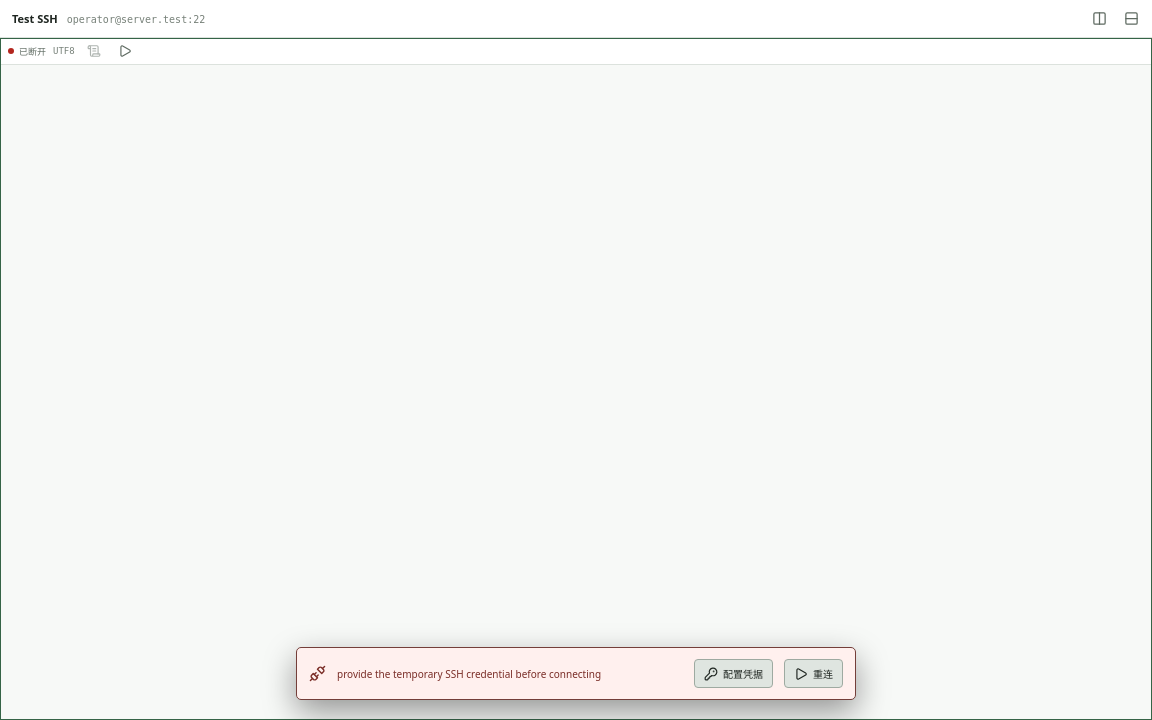
Test: M2 terminal workspace › passes quick-connect passwords once without persisting them
Click the button "配置凭据".
click(734, 674)  # box [694,659,773,688]
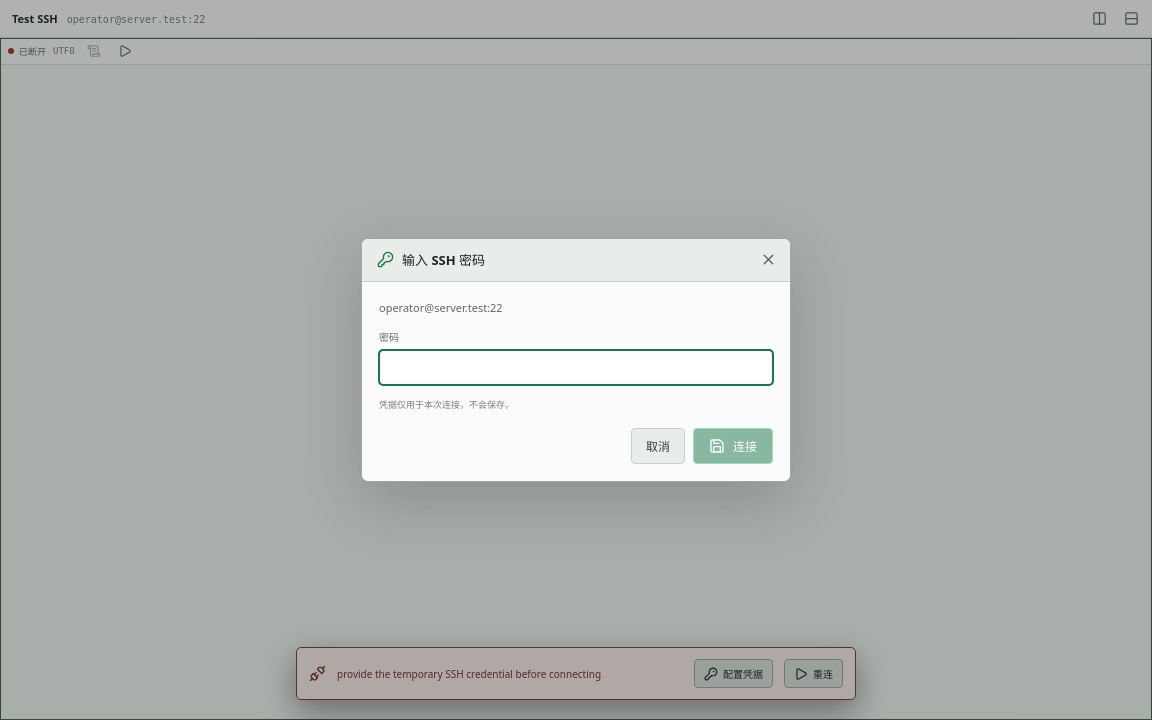
Now the dialog "输入 SSH 密码" is shown, box [361,238,791,482]
Type "one-time-password" into the password field labelled "密码".
click(576, 368); type("one-time-password")  # box [379,350,773,385]
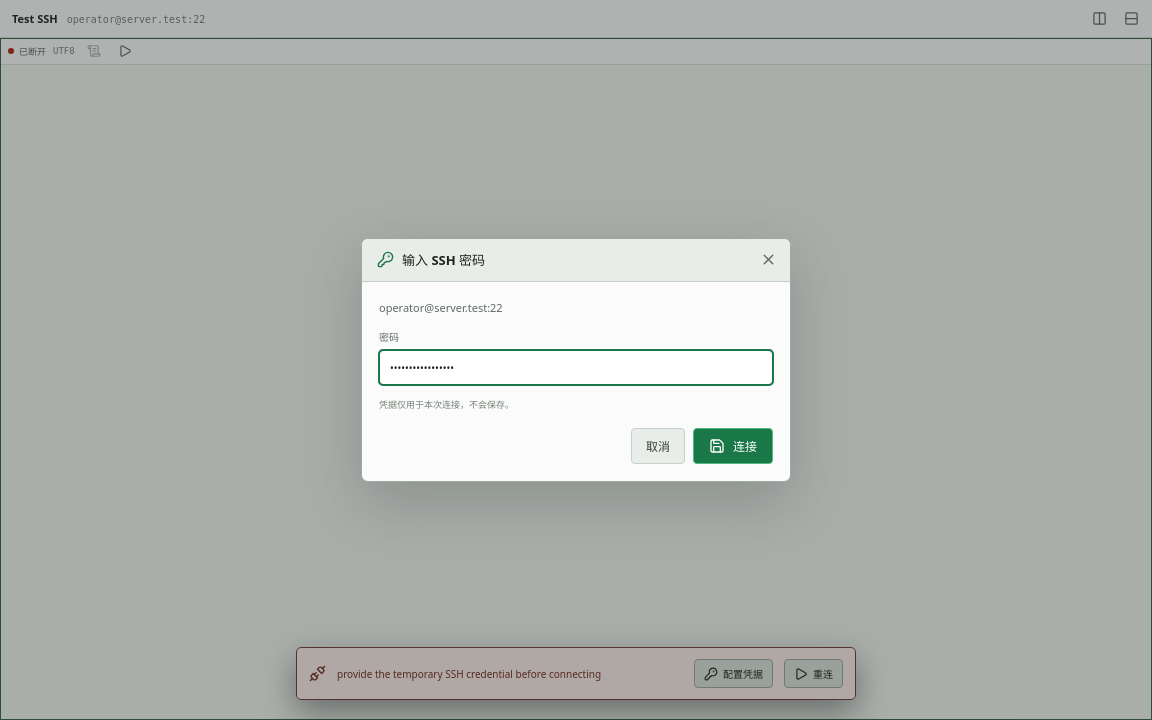
Click the button "连接".
click(733, 446)  # box [693,428,773,464]
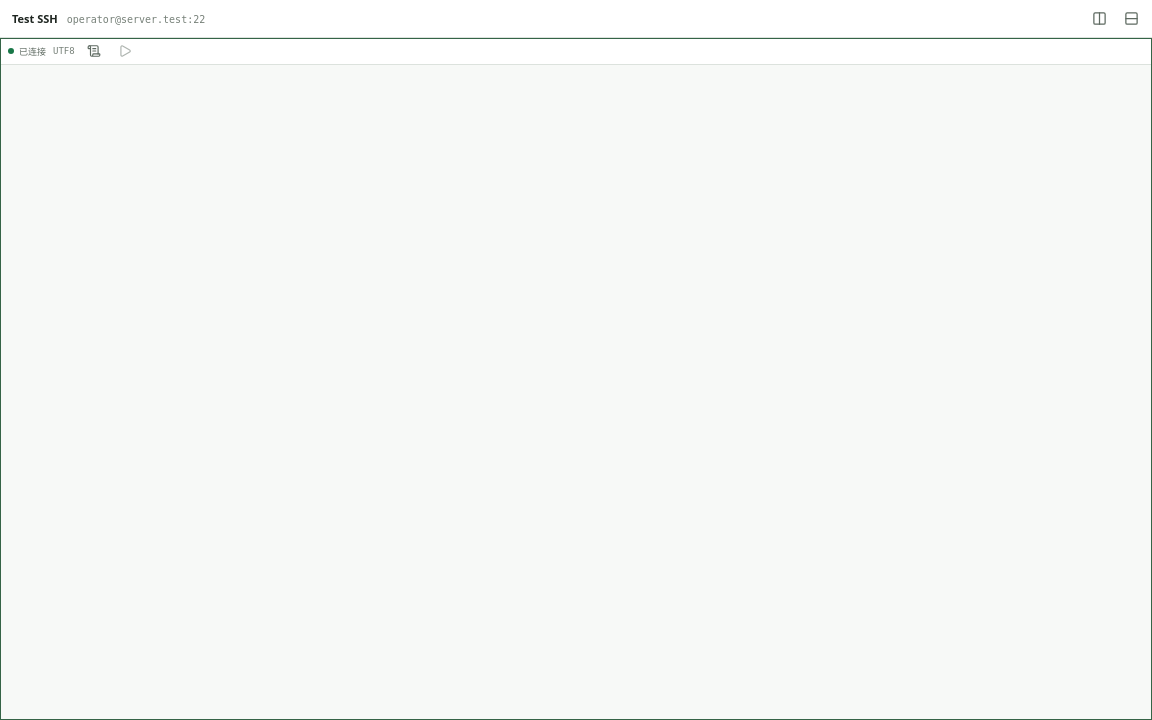
Now the text "已连接" is shown, box [8,44,46,58]
